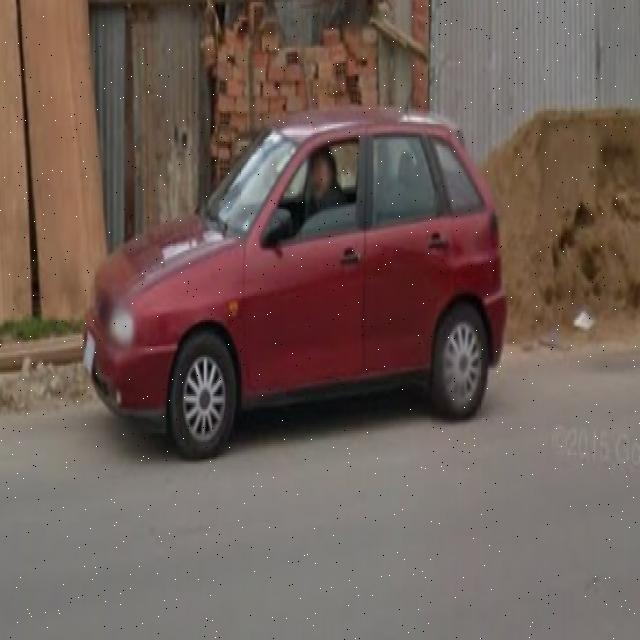cars: (68, 71, 516, 493)
